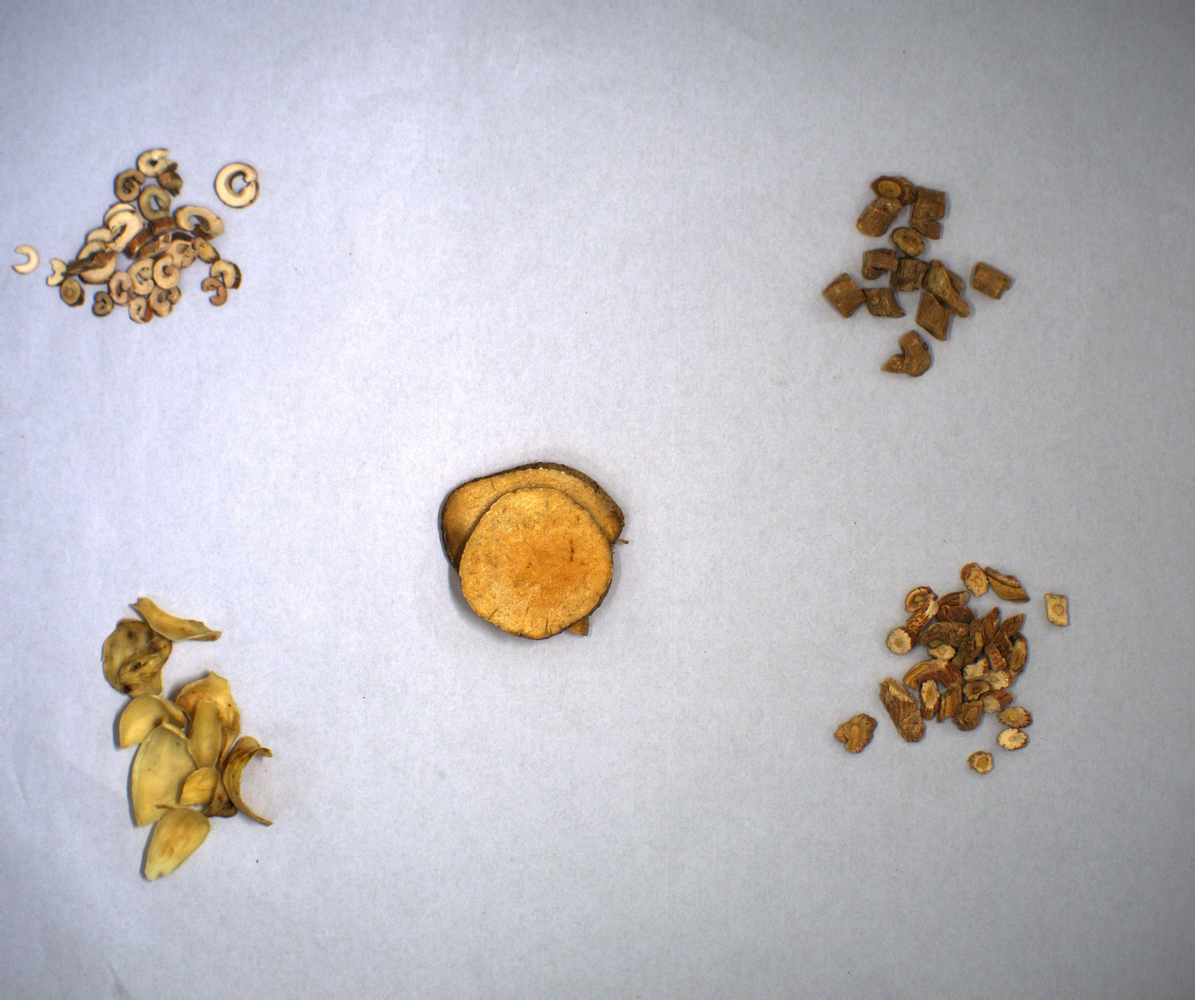baihe: (89, 589, 285, 888)
banlangen: (826, 558, 1082, 808)
mudanpi: (7, 136, 267, 336)
niuxi: (817, 162, 1028, 392)
zexie: (422, 452, 638, 658)
